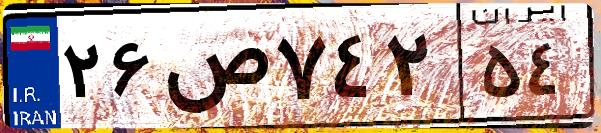2: (385, 28, 445, 110), (57, 26, 110, 100)
4: (330, 28, 385, 110), (525, 38, 570, 115)
5: (475, 38, 525, 113)
6: (110, 28, 158, 98)
7: (270, 28, 330, 110)
ص: (158, 20, 270, 120)
